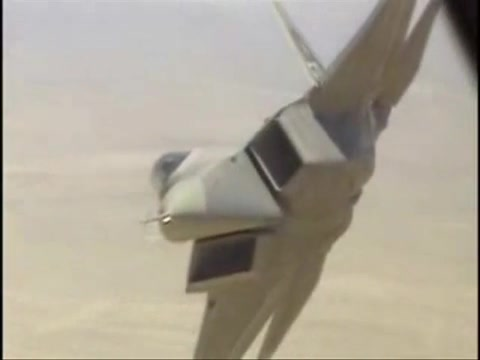aeroplane: (140, 2, 445, 359)
